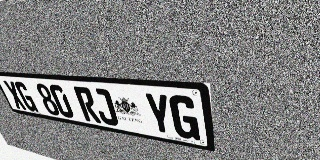0: (48, 84, 75, 119)
8: (34, 83, 61, 116)
G: (168, 94, 200, 141), (13, 81, 39, 112)
J: (90, 88, 120, 127)
R: (73, 86, 102, 123)
X: (2, 80, 28, 110)
Y: (143, 92, 174, 136)
